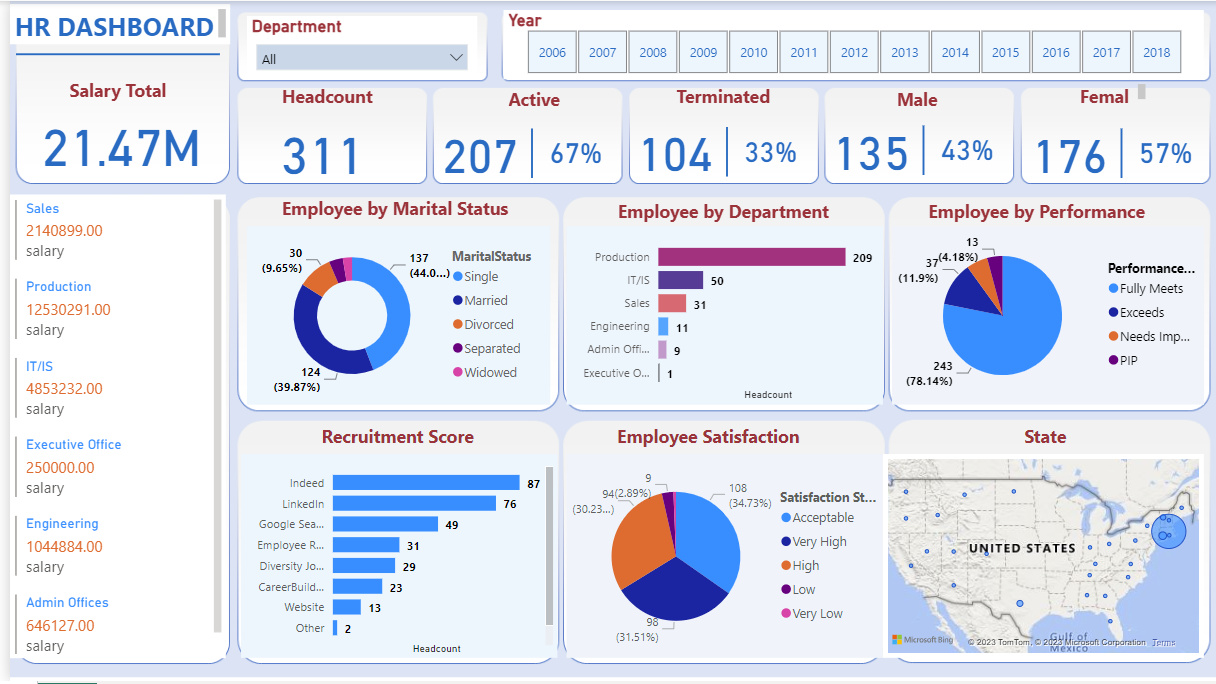

What the dashboard file says about the page in this screenshot:
{"tool":"powerbi","page":{"name":"Page 1","canvas":[1280,720],"ordinal":0},"visuals":[{"type":"textbox","box":[0,3.2,233.6,42.9],"z":0},{"type":"slicer","title":"Department","fields":{"Values":["HRData.Department"]},"box":[251.9,15.9,244,61.5],"z":1000},{"type":"slicer","title":"Year","fields":{"Values":["HRData.Hiring year"]},"box":[523.6,9.9,741.8,73.4],"z":2000},{"type":"textbox","box":[283.6,83.3,126.9,37.7],"z":3000},{"type":"textbox","box":[522.9,85.8,76.3,38.1],"z":4000},{"type":"textbox","box":[700.2,83.3,125,37.7],"z":5000},{"type":"textbox","box":[1128.5,82.6,79.5,38.1],"z":6000},{"type":"card","fields":{"Values":["All Measures.Headcount"]},"box":[251.1,95.4,158.9,124],"z":7000},{"type":"card","fields":{"Values":["All Measures.Active"]},"box":[441.9,119.2,111.3,77.9],"z":8000},{"type":"card","fields":{"Values":["All Measures.Active %"]},"box":[553.1,130.3,92.2,57.2],"z":9000},{"type":"shape","box":[522.9,135.1,60.4,52.5],"z":10000},{"type":"textbox","box":[934.6,85.8,62,44.5],"z":11000},{"type":"card","fields":{"Values":["All Measures.Terminated"]},"box":[647.9,117.5,111.3,77.9],"z":12000},{"type":"card","fields":{"Values":["All Measures.Terminated %"]},"box":[759.1,128.7,92.2,57.2],"z":13000},{"type":"shape","box":[728.9,133.4,60.4,52.5],"z":14000},{"type":"card","fields":{"Values":["All Measures.Male"]},"box":[856.6,116.5,111.3,77.9],"z":15000},{"type":"card","fields":{"Values":["All Measures.Male %"]},"box":[967.9,127.6,92.2,57.2],"z":16000},{"type":"shape","box":[937.7,132.4,60.4,52.5],"z":17000},{"type":"card","fields":{"Values":["All Measures.Female"]},"box":[1066.4,119.7,111.3,77.9],"z":18000},{"type":"card","fields":{"Values":["All Measures.Female %"]},"box":[1177.7,130.8,92.2,57.2],"z":19000},{"type":"shape","box":[1147.5,135.6,60.4,52.5],"z":20000},{"type":"donutChart","fields":{"Y":["All Measures.Headcount"],"Category":["HRData.MaritalStatus"]},"box":[251.1,238.4,321.1,189.1],"z":21000},{"type":"textbox","box":[282.9,201.9,265.4,36.6],"z":22000},{"type":"textbox","box":[599.2,205,313.1,36.6],"z":23000},{"type":"textbox","box":[967.9,205,265.4,36.6],"z":24000},{"type":"clusteredBarChart","fields":{"Category":["HRData.Department"],"Y":["All Measures.Headcount"]},"box":[589.7,238.4,335.4,189.1],"z":25000},{"type":"pieChart","fields":{"Y":["All Measures.Headcount"],"Category":["HRData.PerformanceScore"]},"box":[934.6,238.4,330.6,189.1],"z":26000},{"type":"clusteredBarChart","fields":{"Category":["HRData.RecruitmentSource"],"Y":["All Measures.Headcount"]},"box":[244.8,480,335.4,216.2],"z":27000},{"type":"textbox","box":[254.3,443.4,313.1,36.6],"z":28000},{"type":"pieChart","fields":{"Category":["HRData.Satisfaction Status"],"Y":["All Measures.Headcount"]},"box":[589.7,480,335.4,216.2],"z":29000},{"type":"textbox","box":[583.3,443.4,313.1,36.6],"z":30000},{"type":"textbox","box":[937.7,443.4,313.1,36.6],"z":31000},{"type":"map","fields":{"Category":["HRData.State"],"Size":["All Measures.Headcount"]},"box":[925,480,340.1,216.2],"z":32000},{"type":"card","fields":{"Values":["All Measures.salary"]},"box":[17.5,116,200.3,65.2],"z":33000},{"type":"textbox","box":[6.4,76.3,216.2,47.7],"z":34000},{"type":"shape","box":[6.4,30.2,216.2,52.5],"z":35000},{"type":"multiRowCard","fields":{"Values":["HRData.Department","All Measures.salary"]},"box":[0,205,228.9,491.1],"z":36000}]}

Visuals, with their boxes in screenshot pixels (x1, y1, x2, y2), scaled from the page's 1280x720 canvas onto the 1216x684 screenshot:
textbox: [0, 3, 222, 44]
"Department" slicer: [239, 15, 471, 74]
"Year" slicer: [497, 9, 1202, 79]
textbox: [269, 79, 390, 115]
textbox: [497, 82, 569, 118]
textbox: [665, 79, 784, 115]
textbox: [1072, 78, 1148, 115]
card - All Measures.Headcount: [239, 91, 390, 208]
card - All Measures.Active: [420, 113, 526, 187]
card - All Measures.Active %: [525, 124, 613, 178]
shape: [497, 128, 554, 178]
textbox: [888, 82, 947, 124]
card - All Measures.Terminated: [616, 112, 721, 186]
card - All Measures.Terminated %: [721, 122, 809, 177]
shape: [692, 127, 750, 177]
card - All Measures.Male: [814, 111, 920, 185]
card - All Measures.Male %: [920, 121, 1007, 176]
shape: [891, 126, 948, 176]
card - All Measures.Female: [1013, 114, 1119, 188]
card - All Measures.Female %: [1119, 124, 1206, 179]
shape: [1090, 129, 1148, 179]
donutChart - All Measures.Headcount x HRData.MaritalStatus: [239, 226, 544, 406]
textbox: [269, 192, 521, 227]
textbox: [569, 195, 867, 230]
textbox: [920, 195, 1172, 230]
clusteredBarChart - HRData.Department x All Measures.Headcount: [560, 226, 879, 406]
pieChart - All Measures.Headcount x HRData.PerformanceScore: [888, 226, 1202, 406]
clusteredBarChart - HRData.RecruitmentSource x All Measures.Headcount: [233, 456, 551, 661]
textbox: [242, 421, 539, 456]
pieChart - HRData.Satisfaction Status x All Measures.Headcount: [560, 456, 879, 661]
textbox: [554, 421, 852, 456]
textbox: [891, 421, 1188, 456]
map - HRData.State x All Measures.Headcount: [879, 456, 1202, 661]
card - All Measures.salary: [17, 110, 207, 172]
textbox: [6, 72, 211, 118]
shape: [6, 29, 211, 79]
multiRowCard - HRData.Department x All Measures.salary: [0, 195, 217, 661]
